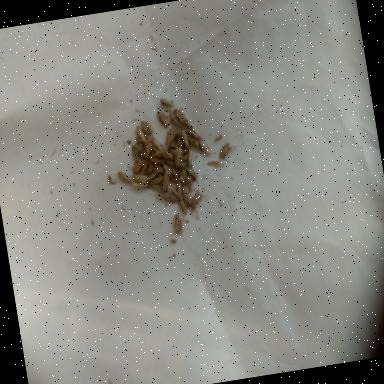pbw: (187, 130, 201, 156), (196, 138, 211, 158), (189, 190, 203, 210), (180, 184, 192, 207), (174, 146, 186, 168), (176, 194, 188, 216), (171, 214, 182, 237), (168, 111, 182, 129), (158, 175, 172, 193), (148, 164, 167, 177), (136, 142, 146, 166), (217, 142, 232, 158), (163, 127, 176, 145), (140, 119, 152, 138), (160, 146, 174, 162), (116, 170, 130, 186), (142, 142, 154, 160), (156, 110, 168, 128), (180, 119, 194, 134), (180, 127, 190, 148), (130, 143, 140, 164), (175, 108, 188, 124), (172, 126, 182, 146), (130, 173, 148, 184), (184, 165, 197, 180), (148, 174, 164, 186), (137, 161, 149, 177), (148, 154, 164, 166), (151, 136, 162, 153), (129, 160, 142, 174), (174, 178, 184, 196), (184, 149, 194, 167), (135, 126, 146, 142), (160, 98, 174, 110), (133, 179, 148, 190), (162, 162, 173, 177), (206, 159, 222, 169), (185, 128, 198, 140), (185, 172, 194, 189), (144, 171, 158, 181), (179, 170, 188, 184)
